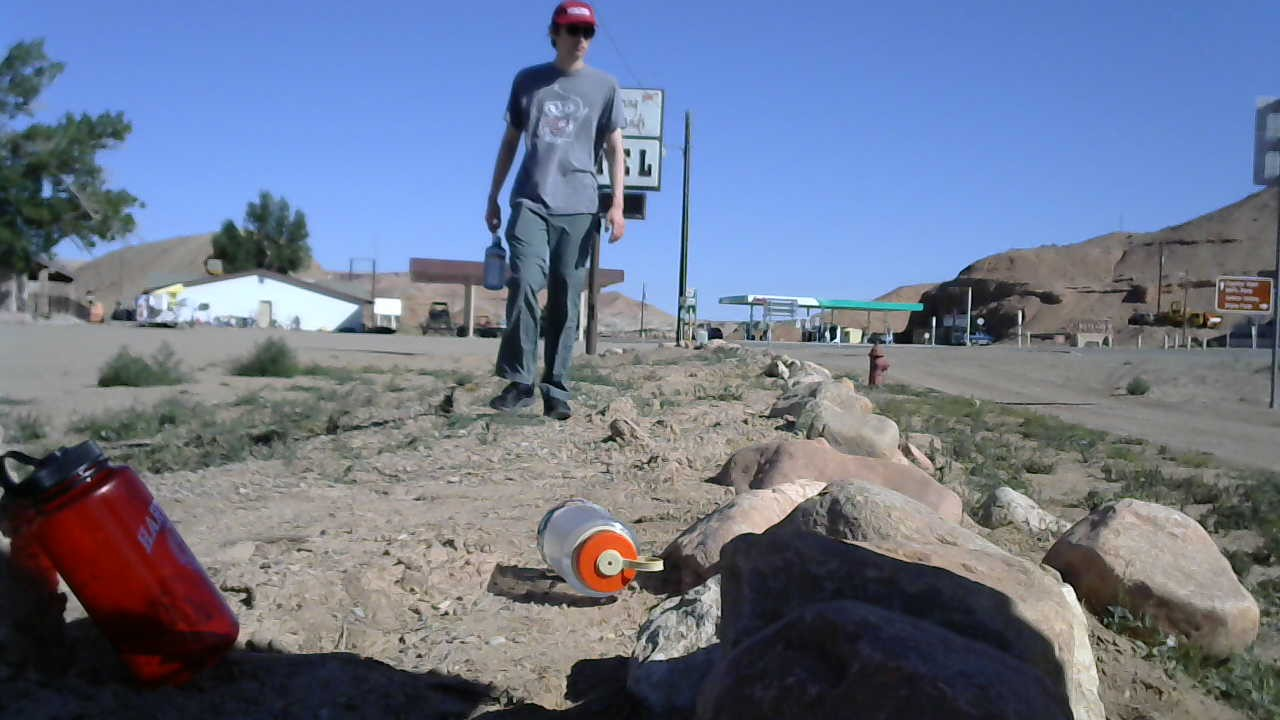bottle: (0, 438, 241, 683), (530, 497, 667, 604)
